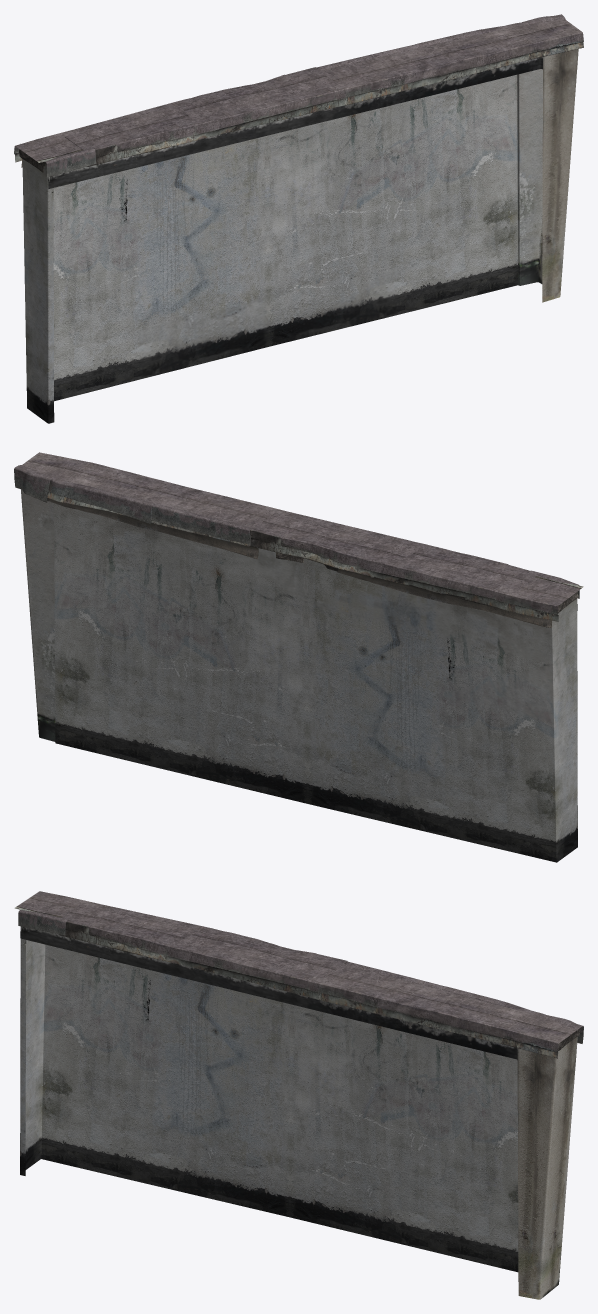
The picture shows the model from 3 angles, top to bottom: view 1: azimuth 30°, elevation 25°; view 2: azimuth 150°, elevation 25°; view 3: azimuth 330°, elevation 25°; orthographic projection.
Parts seen in each view (by area): view 1: sm_GarageColumnn_01_01_LOD0; view 2: sm_GarageColumnn_01_01_LOD0; view 3: sm_GarageColumnn_01_01_LOD0.
Boxes of the visible parts, box(x1,y1,x2,y2) form: sm_GarageColumnn_01_01_LOD0: box(14, 14, 583, 423); sm_GarageColumnn_01_01_LOD0: box(14, 452, 583, 862); sm_GarageColumnn_01_01_LOD0: box(14, 891, 583, 1299).
Size of the model in its own units: 74.2 by 714 by 331.
